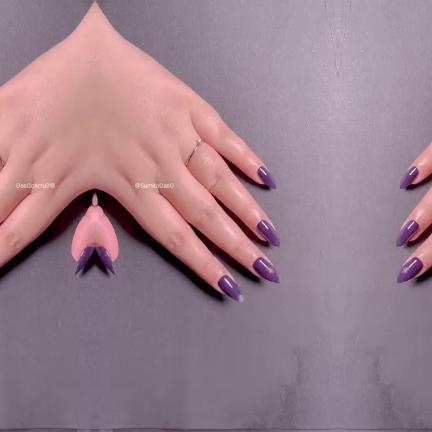Nail: (252, 257, 279, 283), (395, 257, 422, 283), (217, 275, 242, 302), (255, 219, 279, 247), (395, 219, 419, 247), (95, 246, 115, 275), (73, 246, 93, 275), (256, 166, 275, 189), (399, 166, 418, 189), (432, 301, 432, 302)
